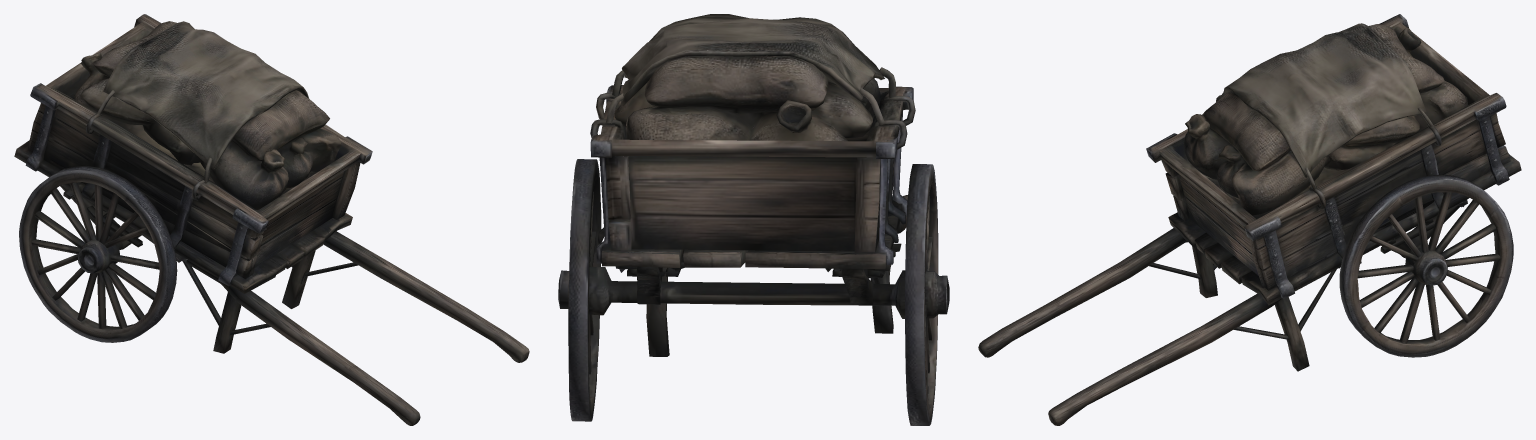
File: SM_Env_SohoHandcart.fbx
3 renders of one model, left to right at view 1: azimuth 30°, elevation 25°; view 2: azimuth 150°, elevation 25°; view 3: azimuth 270°, elevation 25°, orthographic. The views are drawn at different scales.
Visible parts, largest first — view 1: SM_Env_SohoHandcart; view 2: SM_Env_SohoHandcart; view 3: SM_Env_SohoHandcart.
Part boxes in pixels (x1,y1,x2,y2): SM_Env_SohoHandcart: (14,14,529,425); SM_Env_SohoHandcart: (558,14,949,425); SM_Env_SohoHandcart: (978,14,1521,425).
Bounding box in the file's own units: 40.83 × 52.53 × 30.
Materials: 1 (1 with a texture image).
